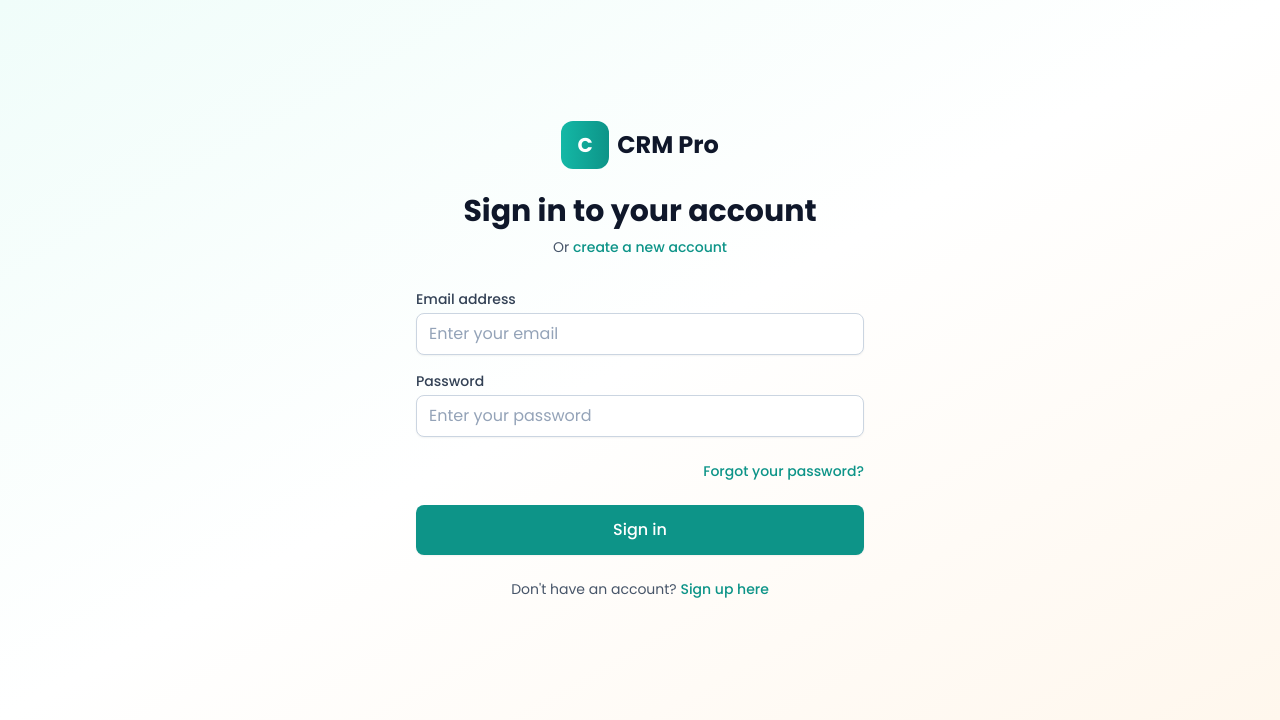
LoginForm › displays error message when login fails
This screenshot has width=1280, height=720.
In the field labelled "Email address": coordinates (640, 334) x1=416 y1=313 x2=864 y2=355, type "test@example.com"
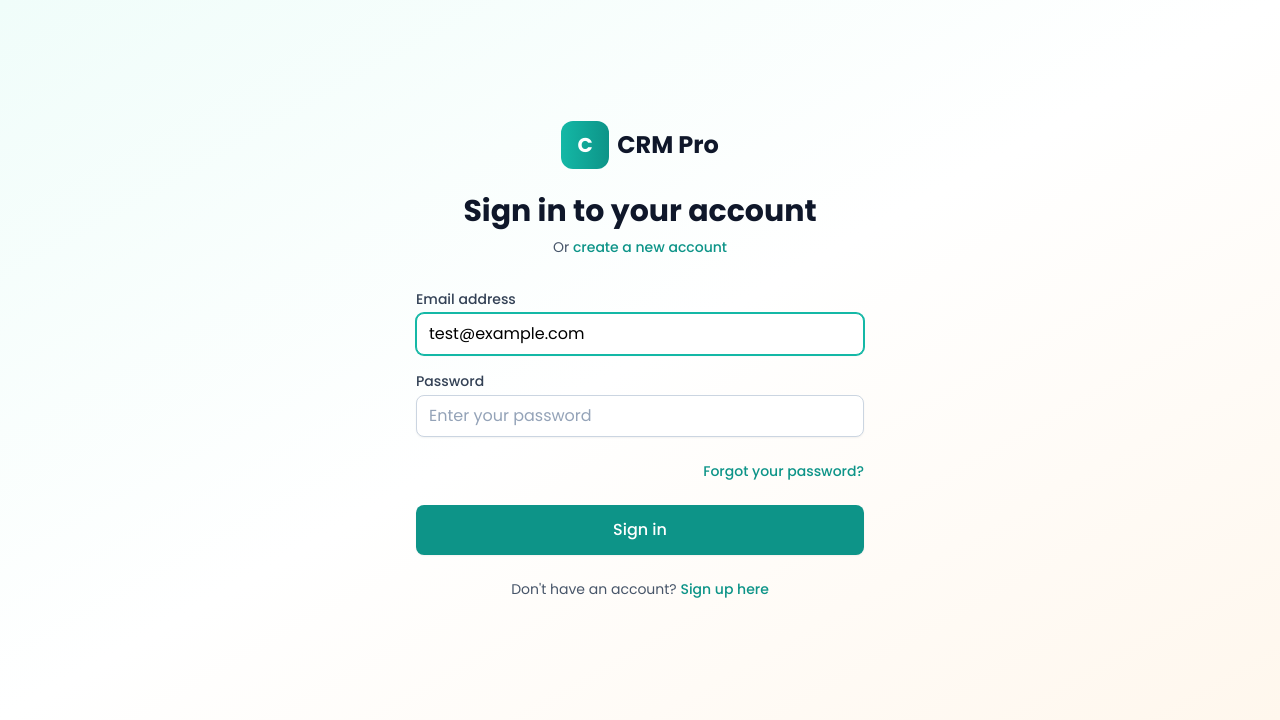
In the password field labelled "Password": coordinates (640, 416) x1=416 y1=395 x2=864 y2=437, type "password123"
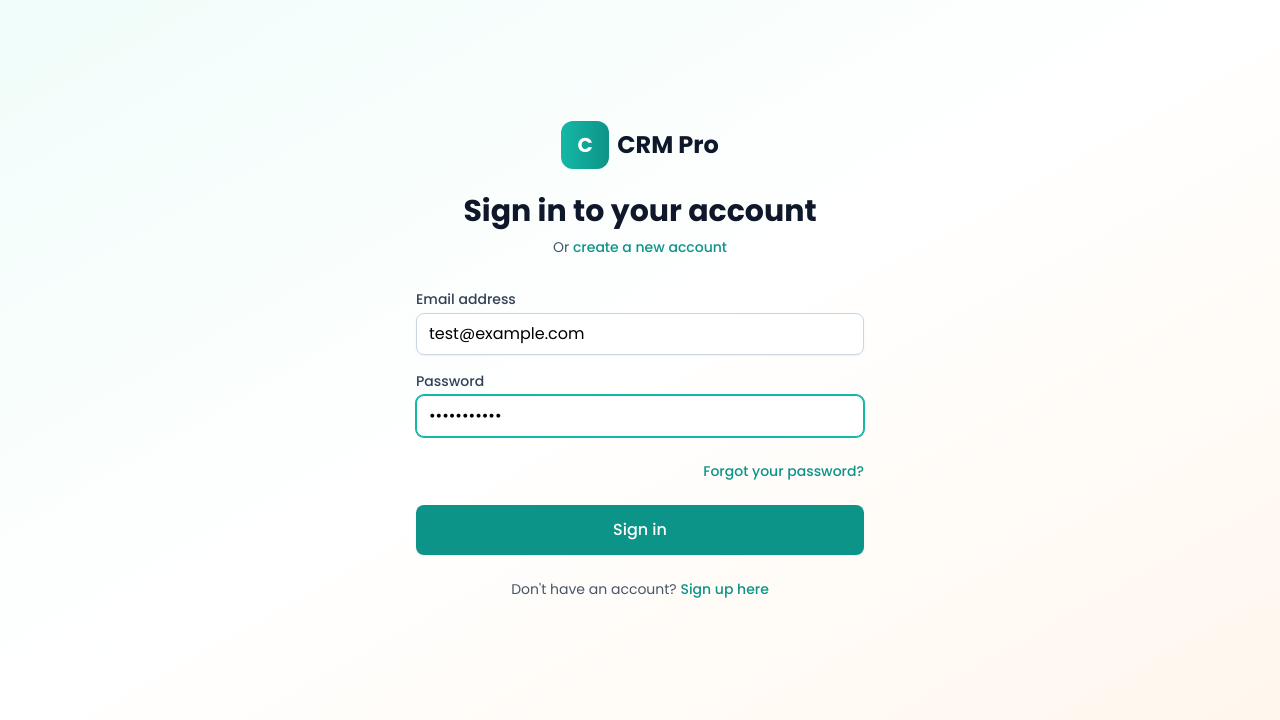
Click the button "Sign in": coordinates (640, 530) x1=416 y1=505 x2=864 y2=555
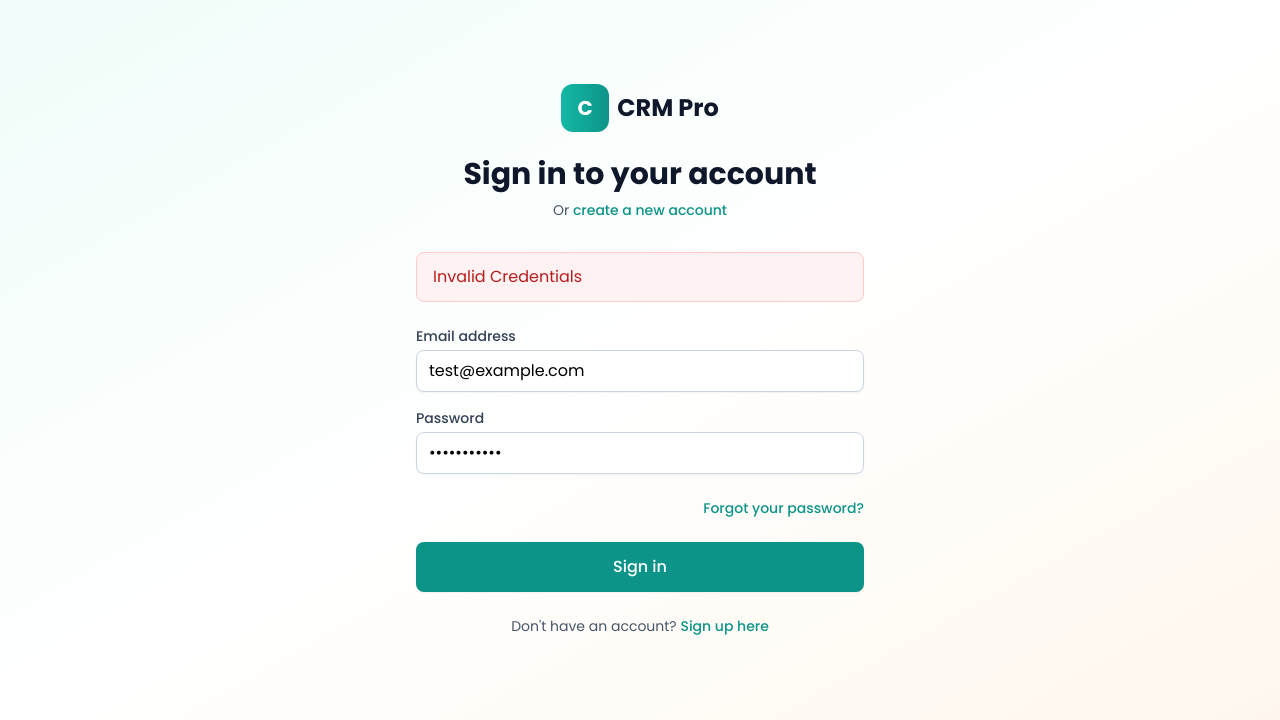
Check: the text "Invalid Credentials" is shown, box x1=433 y1=265 x2=582 y2=288
